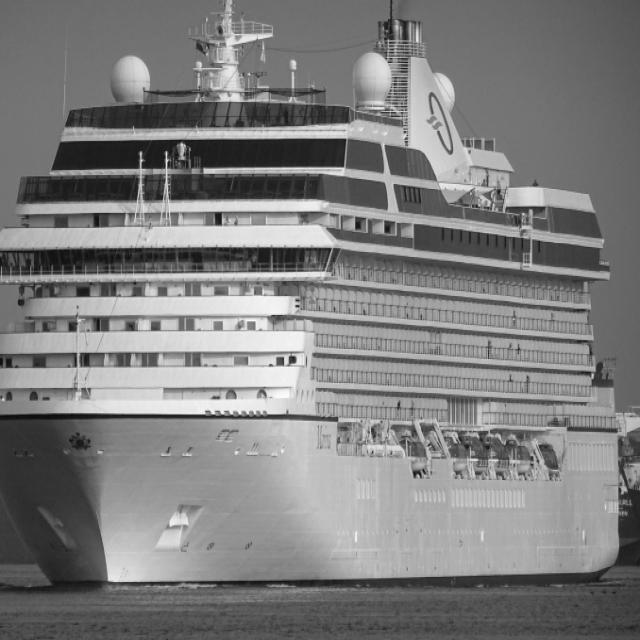cruises: (1, 1, 640, 602)
